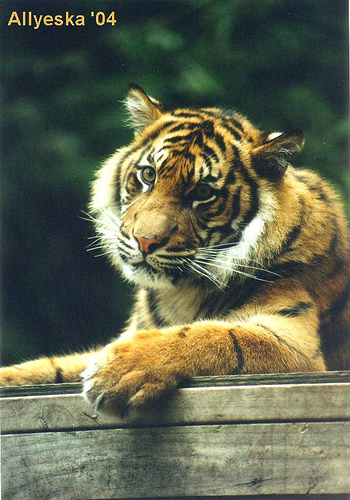Tigre: (65, 76, 350, 385)
